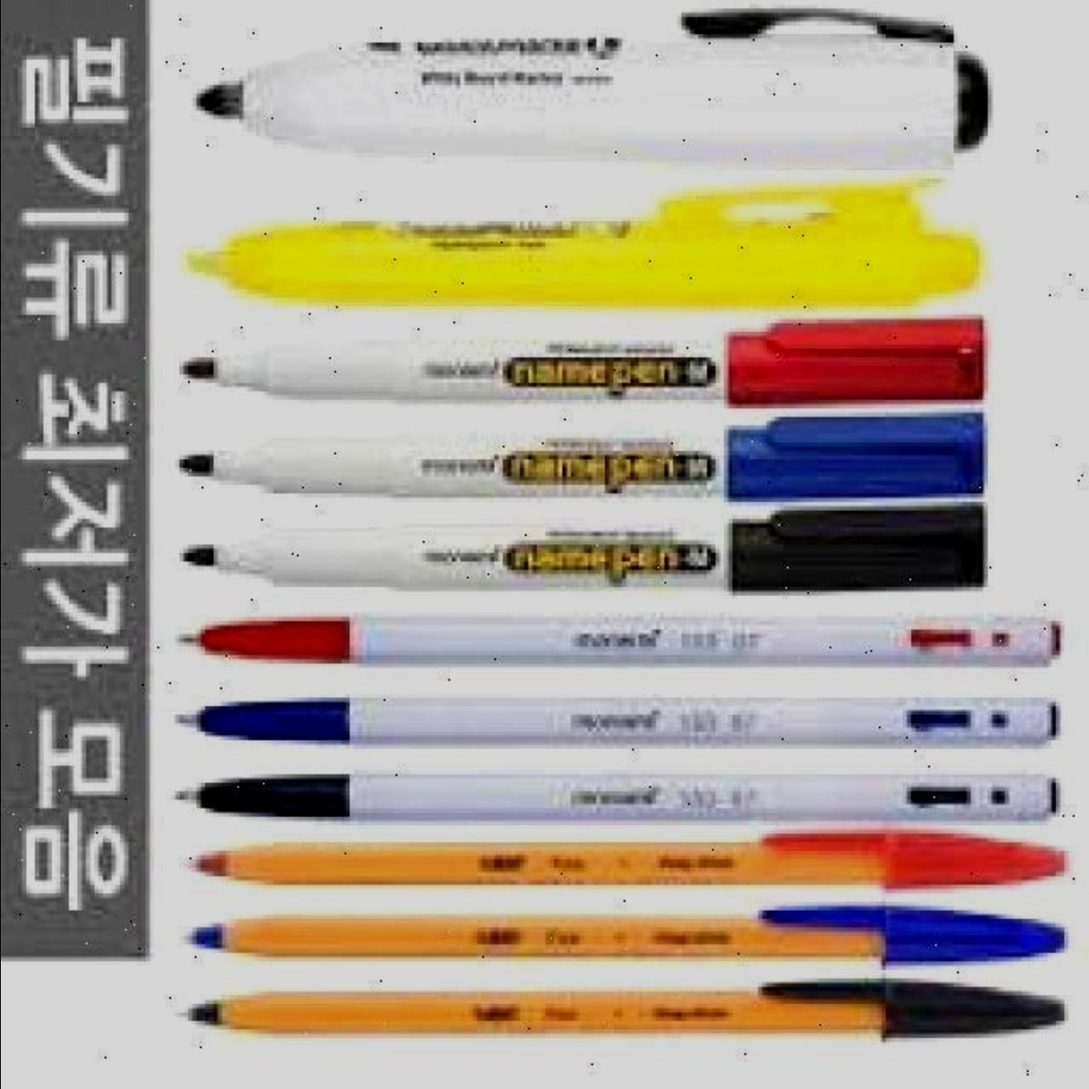pen: (168, 766, 1067, 830)
